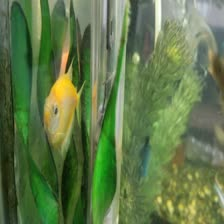Plano: (40, 69, 88, 146)
